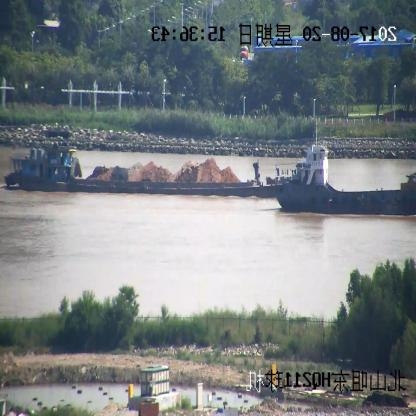Bulk Carrier: (271, 120, 416, 215)
